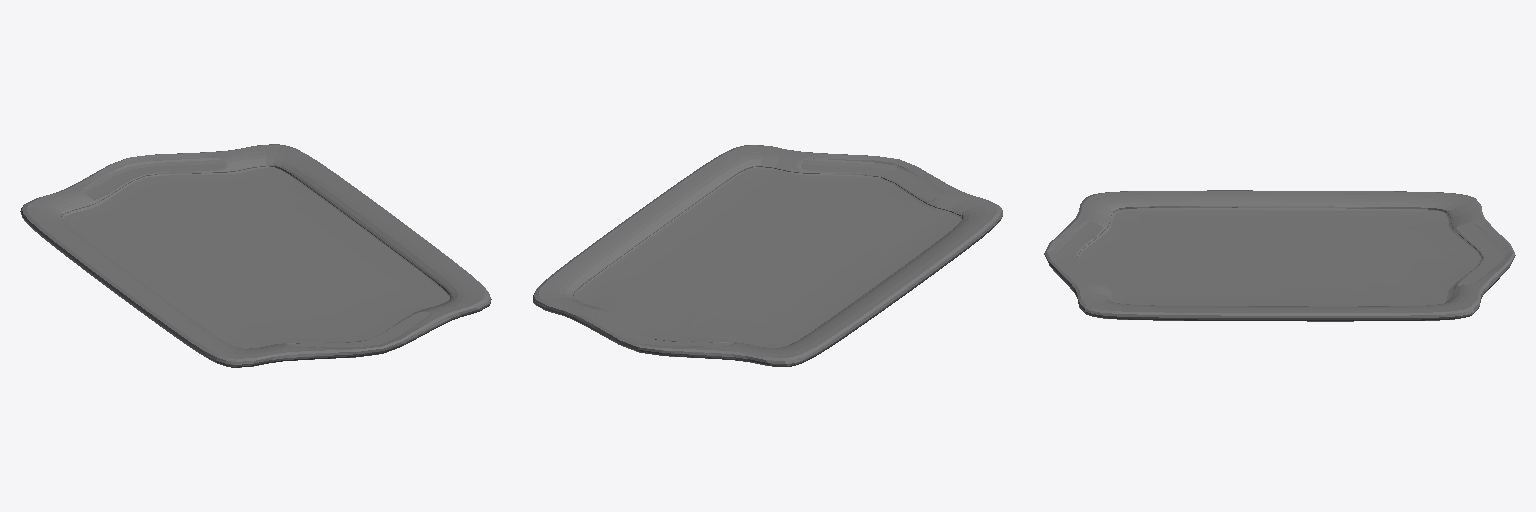
The robot description file, URDF, robot "tray":
<?xml version="1.0"?>
<robot name="tray">
    <link name="tray_body">
        <inertial>
            <origin xyz="0 0 0" rpy="-3.141591 3.141624 3.117158" />
            <inertia ixx="1.0803" iyy="1.4475" izz="0.3688" ixy="0.0" ixz="0.0" iyz="0.0"/>
            <mass value="10" />
        </inertial>
        <collision name="tray">
            <origin xyz="0 0 0" rpy="-3.141591 3.141624 3.117158" />
            <geometry>
                <box size="0.210000 0.360000 0.006000" />
            </geometry>
        </collision>
        <visual name="tray_visual">
            <origin xyz="0 0 0" rpy="-1.567356 1.571413 -0.000513" />
            <geometry>
                <mesh filename="tray_tray_visual_vis_1.dae" />
            </geometry>
            <material name="tray_visual_material">
                <color rgba="0.500000 0.500000 0.500000 1.0" />
            </material>
        </visual>
    </link>
</robot>

--- What the picture shows (computed from the rendered views, not written in the file) ---
3 views of the same robot in one strip: view 1: azimuth 30°, elevation 25°; view 2: azimuth 150°, elevation 25°; view 3: azimuth 270°, elevation 25° (orthographic).
Robot: tray — 1 links, 0 joints (none); root link tray_body; default pose: all joints at 0.
Links seen in each view (by area): view 1: tray_body; view 2: tray_body; view 3: tray_body.
Boxes of the visible links, box(x1,y1,x2,y2) form: tray_body: box(20, 144, 491, 367); tray_body: box(533, 145, 1002, 366); tray_body: box(1044, 190, 1515, 321).
Bounding box of the posed robot: 0.2553 × 0.4034 × 0.0086 m (x, y, z).
1 mesh visuals loaded from 1 distinct referenced files (1 Collada DAE).